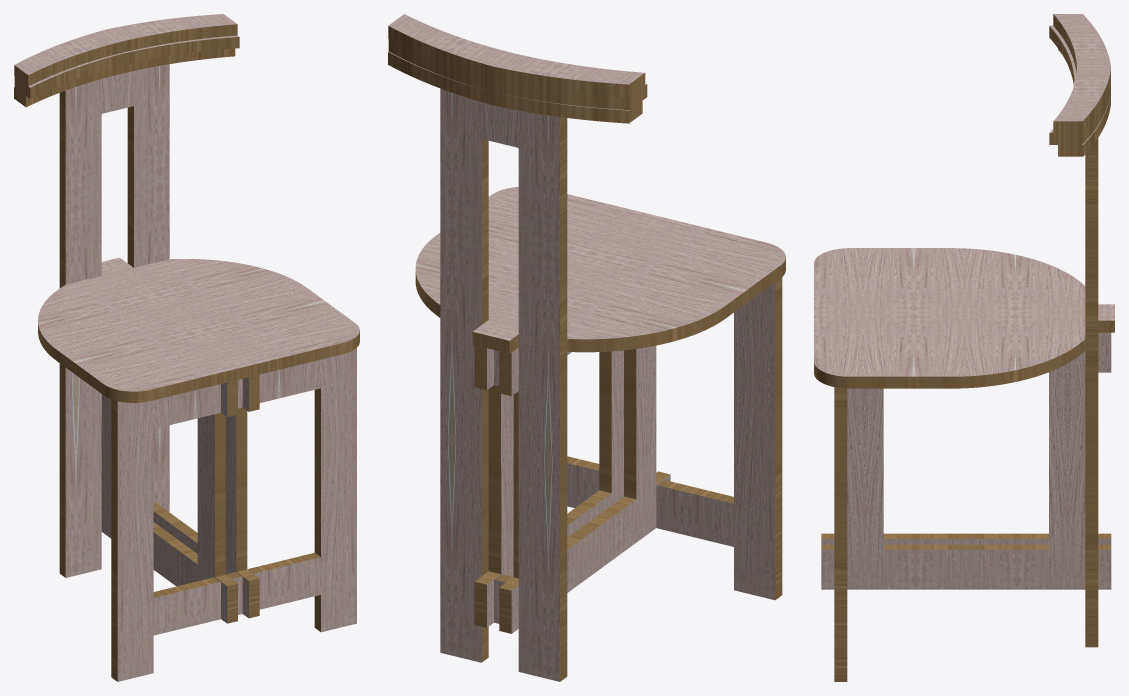
File: NODO_SILLA_COUNTRY_PARAISO_V2_RESPALDO_CORREGIDO.glb
3 views of the same model, side by side, from view 1: azimuth 30°, elevation 25°; view 2: azimuth 150°, elevation 25°; view 3: azimuth 270°, elevation 25° (orthographic). The views are drawn at different scales.
Parts seen in each view (by area): view 1: Frente, Asiento, Pata_respaldo, Central_1, Central_2, Travesano_3, Travesano_2, Travesano_1; view 2: Pata_respaldo, Asiento, Frente, Central_1, Central_2, Travesano_3, Travesano_1, Travesano_2; view 3: Asiento, Central_2, Pata_respaldo, Travesano_3, Frente, Central_1, Travesano_2, Travesano_1.
Boxes of the visible parts, x1,y1,x2,y2 form: Frente: (111,348,356,681); Asiento: (38,257,359,402); Pata_respaldo: (59,64,169,577); Central_1: (101,380,237,623); Central_2: (153,374,259,618); Travesano_3: (14,14,237,86); Travesano_2: (14,35,239,98); Travesano_1: (14,48,235,107); Pata_respaldo: (440,88,567,681); Asiento: (415,187,785,353); Frente: (567,277,782,600); Central_1: (499,345,670,633); Central_2: (474,345,623,627); Travesano_3: (388,14,645,97); Travesano_1: (388,51,642,123); Travesano_2: (388,39,647,109); Asiento: (814,248,1114,388); Central_2: (821,332,1111,589); Pata_respaldo: (1085,138,1098,647); Travesano_3: (1053,14,1110,132); Frente: (834,387,847,681); Central_1: (821,533,1111,544); Travesano_2: (1049,25,1110,144); Travesano_1: (1058,49,1110,156).
Size of the model in its own units: 0.42 by 0.8415 by 0.415.
2 materials, 2 textured.
